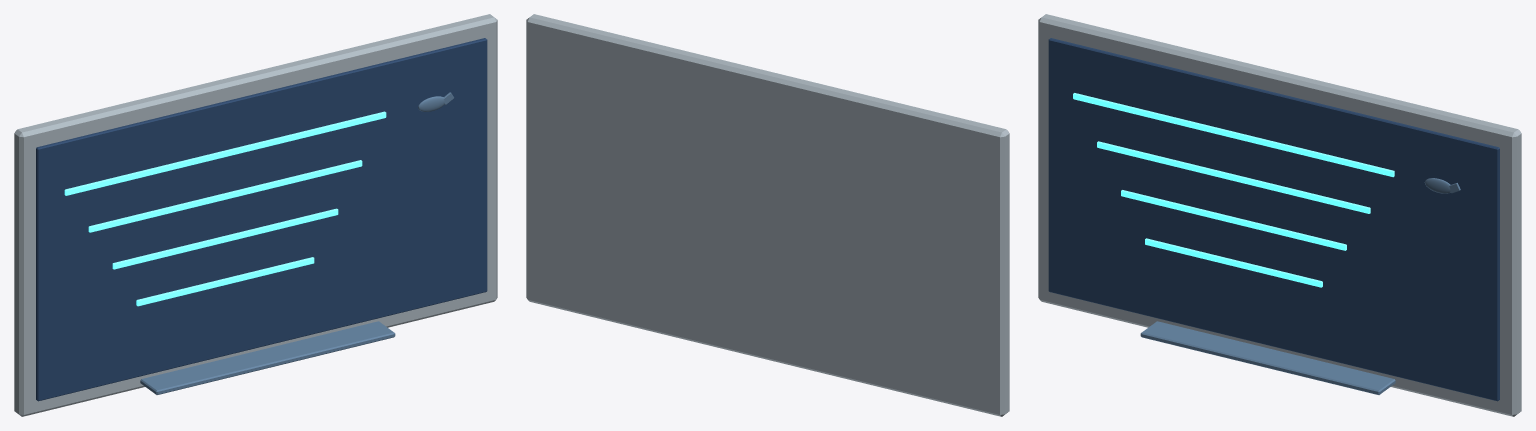
The model's file is school_03.glb.
The picture shows the model from 3 angles, left to right: view 1: azimuth 30°, elevation 25°; view 2: azimuth 150°, elevation 25°; view 3: azimuth 330°, elevation 25°; orthographic projection.
Parts seen in each view (by area): view 1: DisplaySurface, DisplayFrame, TeachingLine (×4), MarkerTray; view 2: DisplayFrame; view 3: DisplaySurface, DisplayFrame, TeachingLine (×4), MarkerTray.
Part boxes in pixels (x1,y1,x2,y2): DisplaySurface: (36,38,487,401); DisplayFrame: (14,14,497,416); TeachingLine (×4): (64,111,386,306); MarkerTray: (140,321,395,394); DisplayFrame: (526,14,1009,416); DisplaySurface: (1048,38,1499,401); DisplayFrame: (1038,14,1521,416); TeachingLine (×4): (1073,93,1394,287); MarkerTray: (1140,321,1395,394).
Bounding box in the file's own units: 1.85 × 1.05 × 0.1625.
